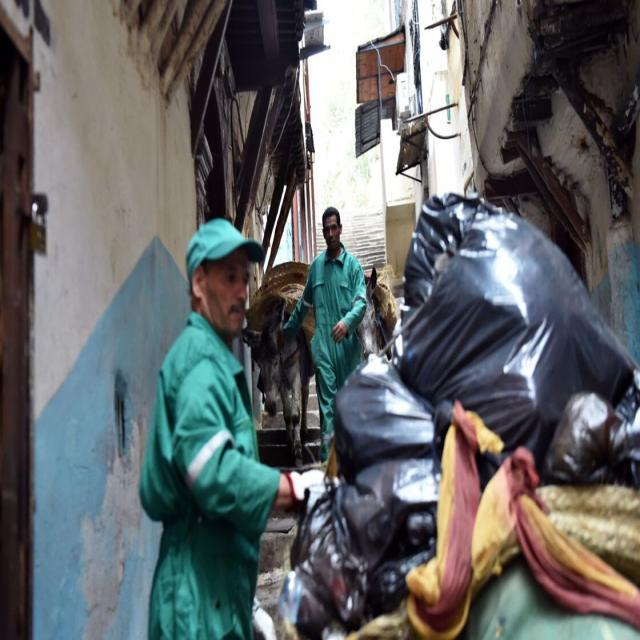garbage: (331, 192, 640, 485), (278, 455, 442, 640)
